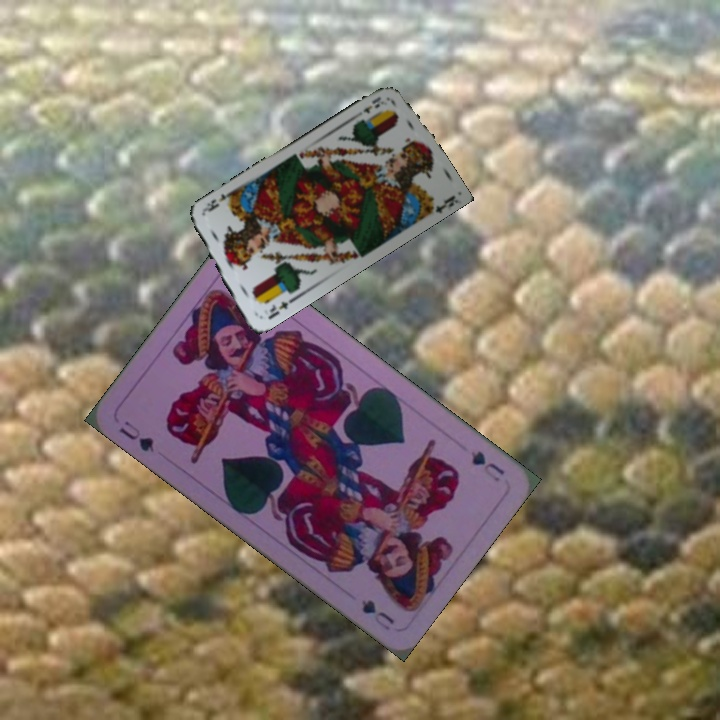EK: (264, 295, 296, 322), (359, 93, 388, 116)
GU: (114, 416, 157, 455), (466, 446, 507, 485)
